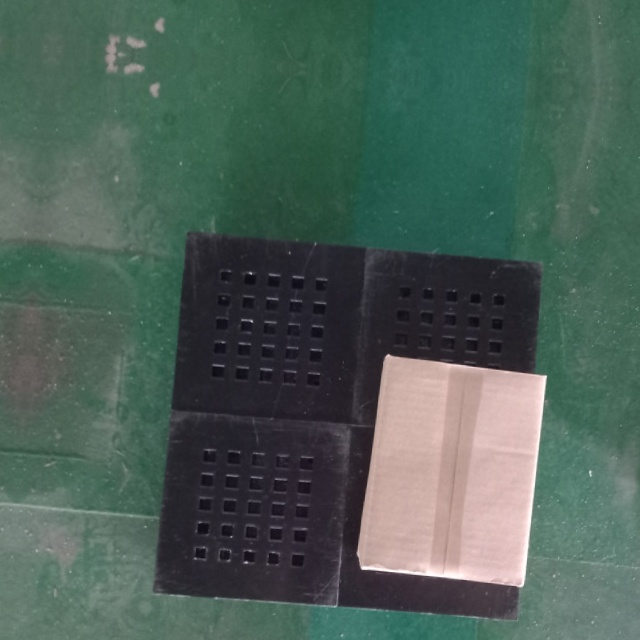box: (355, 351, 549, 590)
pallet: (148, 222, 559, 624)
